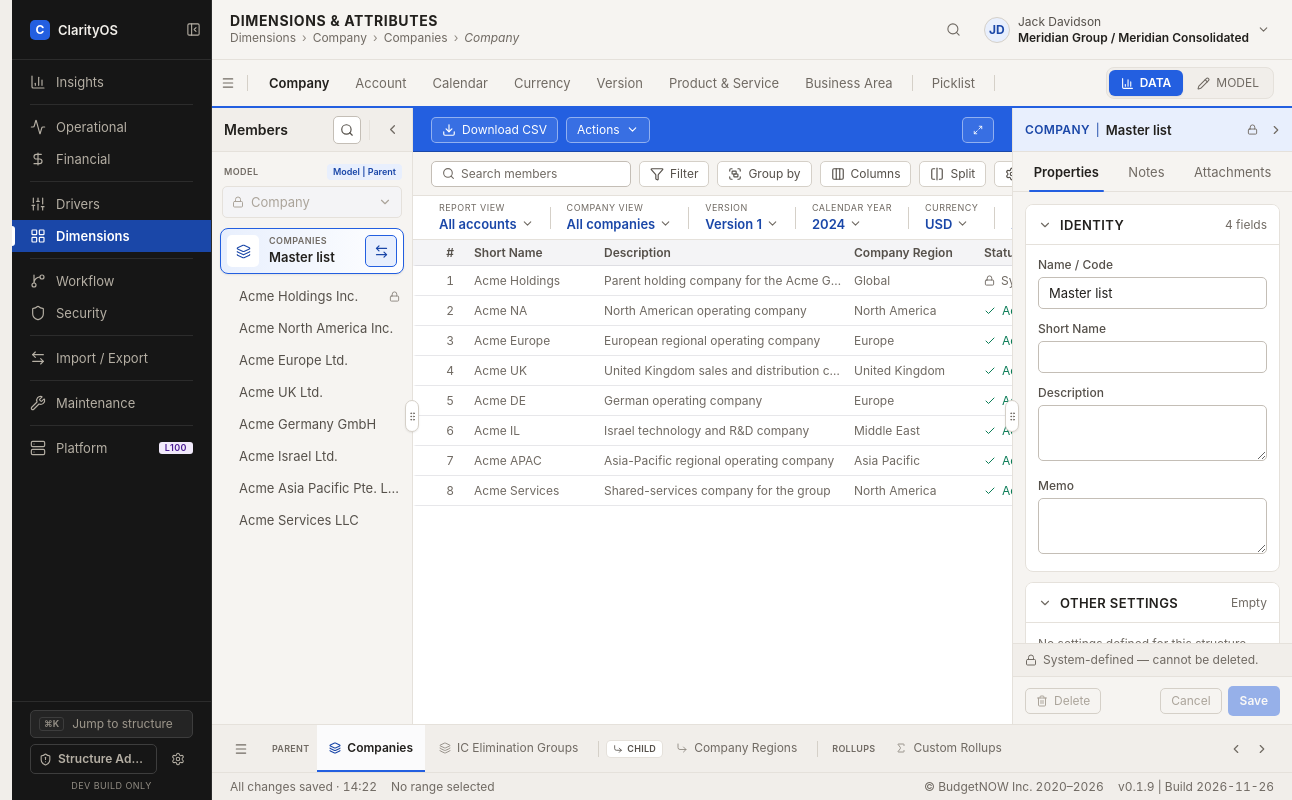
Scenario: toolbar from settings › hides, renames and moves actions as the company set them
Expected: the button "Download CSV" is shown, 431,116 -> 558,142
Click the button "Actions" at (608, 130), box 566,116 -> 650,142
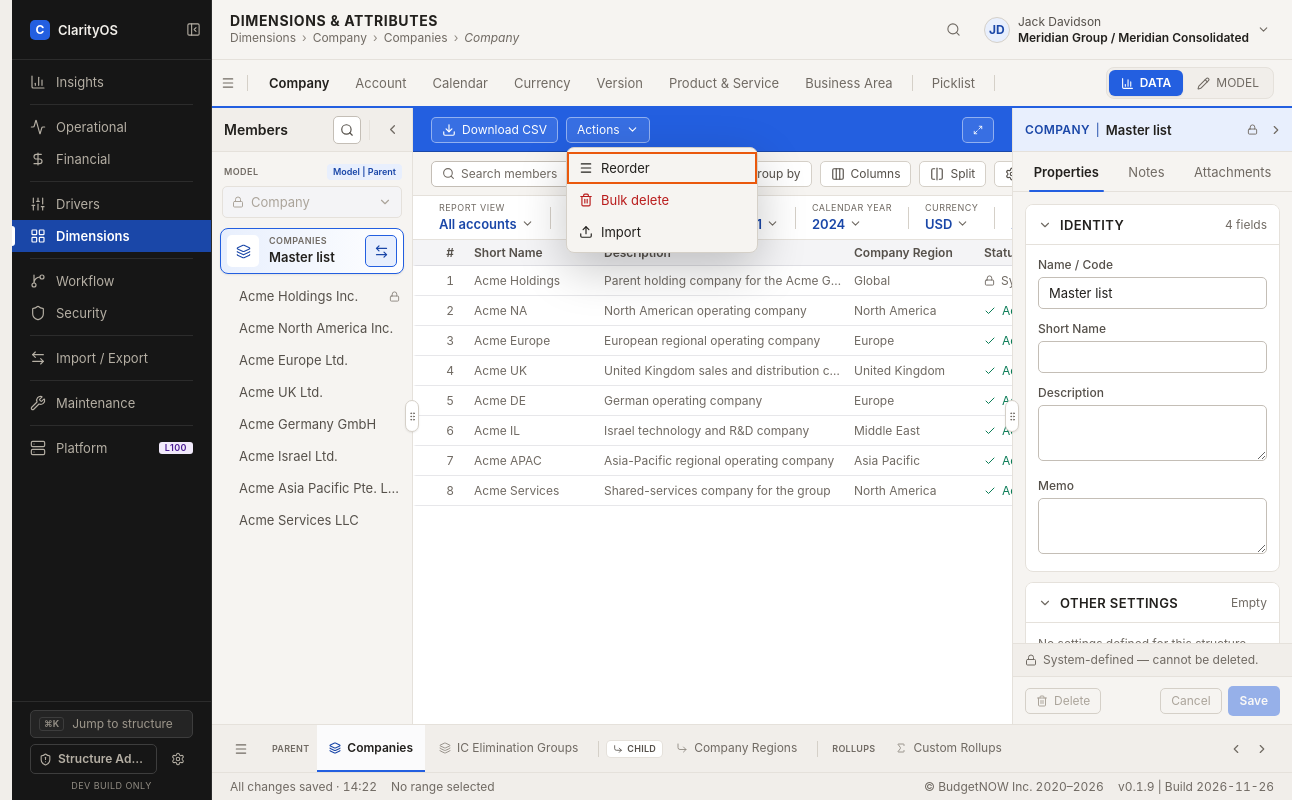
Now the menu item "Import" is shown, box 567,216 -> 757,248
